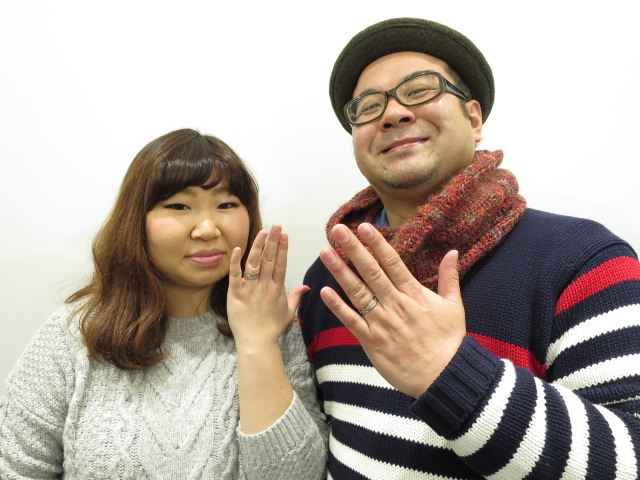face: (353, 51, 483, 195), (145, 167, 249, 289)
hand: (321, 221, 467, 397), (228, 223, 313, 341)
